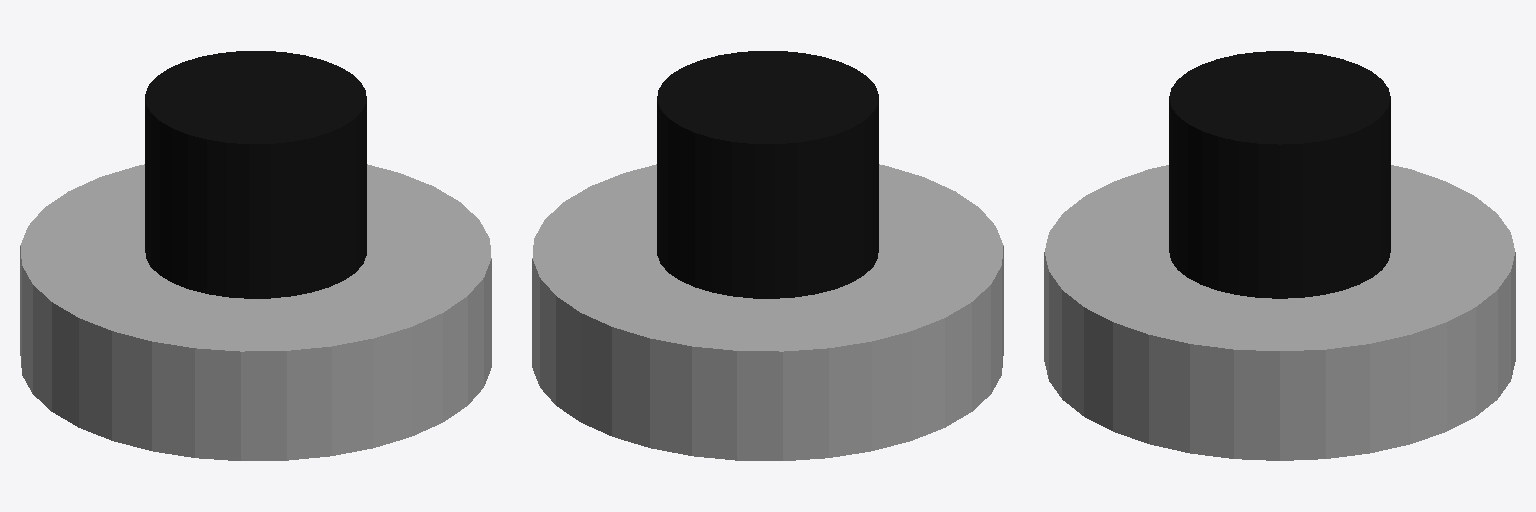
URDF robot description (evolved_robot):
<?xml version="1.0"?>
<robot name="evolved_robot">
  <material name="metal">
    <color rgba="0.7 0.7 0.7 1.0"/>
  </material>
  <material name="plastic">
    <color rgba="0.3 0.3 0.9 1.0"/>
  </material>
  <material name="rubber">
    <color rgba="0.1 0.1 0.1 1.0"/>
  </material>
  <material name="red">
    <color rgba="1.0 0.0 0.0 1.0"/>
  </material>
  <material name="wheel_material">
    <color rgba="0.2 0.2 0.2 1.0"/>
  </material>
  <link name="base_link">
    <visual>
      <geometry><cylinder radius="0.15696084448586667" length="0.08057375223532857"/></geometry>
      <material name="metal"/>
    </visual>
    <collision>
      <geometry><cylinder radius="0.15696084448586667" length="0.08057375223532857"/></geometry>
    </collision>
    <inertial>
      <mass value="5.0"/>
      <inertia ixx="0.0670018747120245" ixy="0" ixz="0" 
               iyy="0.0670018747120245" iyz="0" 
               izz="0.1231835335085821"/>
    </inertial>
  </link>
  <link name="link1">
    <visual>
      <geometry><cylinder radius="0.07385908815871652" length="0.22681827617820438"/></geometry>
      <material name="rubber"/>
    </visual>
    <collision>
      <geometry><cylinder radius="0.07385908815871652" length="0.22681827617820438"/></geometry>
    </collision>
    <inertial>
      <mass value="0.5"/>
      <inertia ixx="0.0056510020932802815" ixy="0" ixz="0" 
               iyy="0.0056510020932802815" iyz="0" 
               izz="0.0027275824518185293"/>
    </inertial>
  </link>
  <joint name="joint1" type="prismatic">
    <parent link="base_link"/>
    <child link="link1"/>
    <origin xyz="0 0 0.04028687611766429" rpy="0 0 0"/>
    <axis xyz="-0.6687704300685842 -0.5496122064397928 0.5006720827031039"/>
    <dynamics damping="0.7765132943335169" friction="0.1"/>
    <limit lower="-0.7875041135189271" upper="1.2616069225743036" effort="100" velocity="100"/>
  </joint>
  <link name="link2">
    <visual>
      <geometry>
        <cylinder radius="0.06003331527035953" length="0.05858802622512754"/>
      </geometry>
      <material name="wheel_material"/>
    </visual>
    <collision>
      <geometry>
        <cylinder radius="0.06003331527035953" length="0.05858802622512754"/>
      </geometry>
    </collision>
    <inertial>
      <mass value="1.0"/>
      <inertia ixx="0.001187046137000615" ixy="0" ixz="0" 
               iyy="0.001187046137000615" iyz="0" 
               izz="0.0018019994711751914"/>
    </inertial>
  </link>
  <joint name="joint2" type="continuous">
    <parent link="base_link"/>
    <child link="link2"/>
    <origin xyz="0 0 0" rpy="1.5708 0 0"/>
    <axis xyz="0 1 0"/>
    <dynamics damping="0.6416339646955268" friction="0.1"/>
  </joint>
  <link name="link3">
    <visual>
      <geometry><cylinder radius="0.069873774119808" length="0.05002511268028795"/></geometry>
      <material name="rubber"/>
    </visual>
    <collision>
      <geometry><cylinder radius="0.069873774119808" length="0.05002511268028795"/></geometry>
    </collision>
    <inertial>
      <mass value="0.5"/>
      <inertia ixx="0.0014291287356594463" ixy="0" ixz="0" 
               iyy="0.0014291287356594463" iyz="0" 
               izz="0.002441172154872975"/>
    </inertial>
  </link>
  <joint name="joint3" type="revolute">
    <parent link="base_link"/>
    <child link="link3"/>
    <origin xyz="0 0 0.09028687611766428" rpy="0 0 0"/>
    <axis xyz="-0.4849432643344249 0.7978208495886778 -0.35820653586760864"/>
    <dynamics damping="0.8238788567566303" friction="0.1"/>
    <limit lower="-0.6651017420408223" upper="1.2169395730998822" effort="100" velocity="100"/>
  </joint>
</robot>

--- What the picture shows (computed from the rendered views, not written in the file) ---
3 views of the same robot in one strip: view 1: azimuth 30°, elevation 25°; view 2: azimuth 150°, elevation 25°; view 3: azimuth 270°, elevation 25° (orthographic).
Model evolved_robot with 4 links and 3 joints (1 revolute, 1 continuous, 1 prismatic), rooted at base_link, posed every joint at zero.
Visible links, largest first — view 1: base_link, link1; view 2: base_link, link1; view 3: base_link, link1.
Link boxes in pixels (x1=…): base_link: x1=20, y1=164, x2=491, y2=460; link1: x1=145, y1=51, x2=366, y2=298; base_link: x1=532, y1=164, x2=1003, y2=460; link1: x1=657, y1=51, x2=878, y2=298; base_link: x1=1044, y1=165, x2=1515, y2=460; link1: x1=1169, y1=51, x2=1390, y2=298.
Bounding box of the posed robot: 0.3139 × 0.3139 × 0.2268 m (x, y, z).
Geometry: primitives only (box / cylinder / sphere), no mesh files.